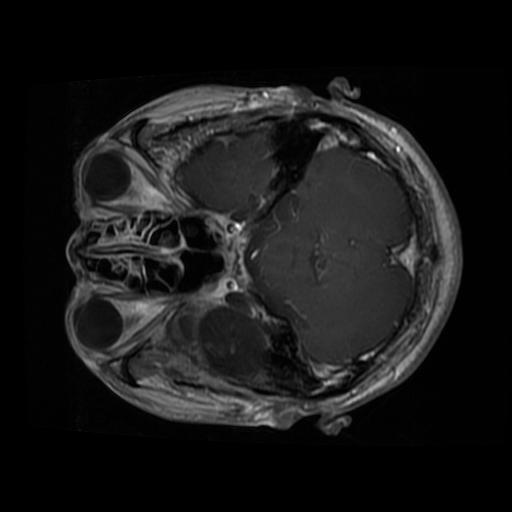glioma: (197, 309, 270, 379)
